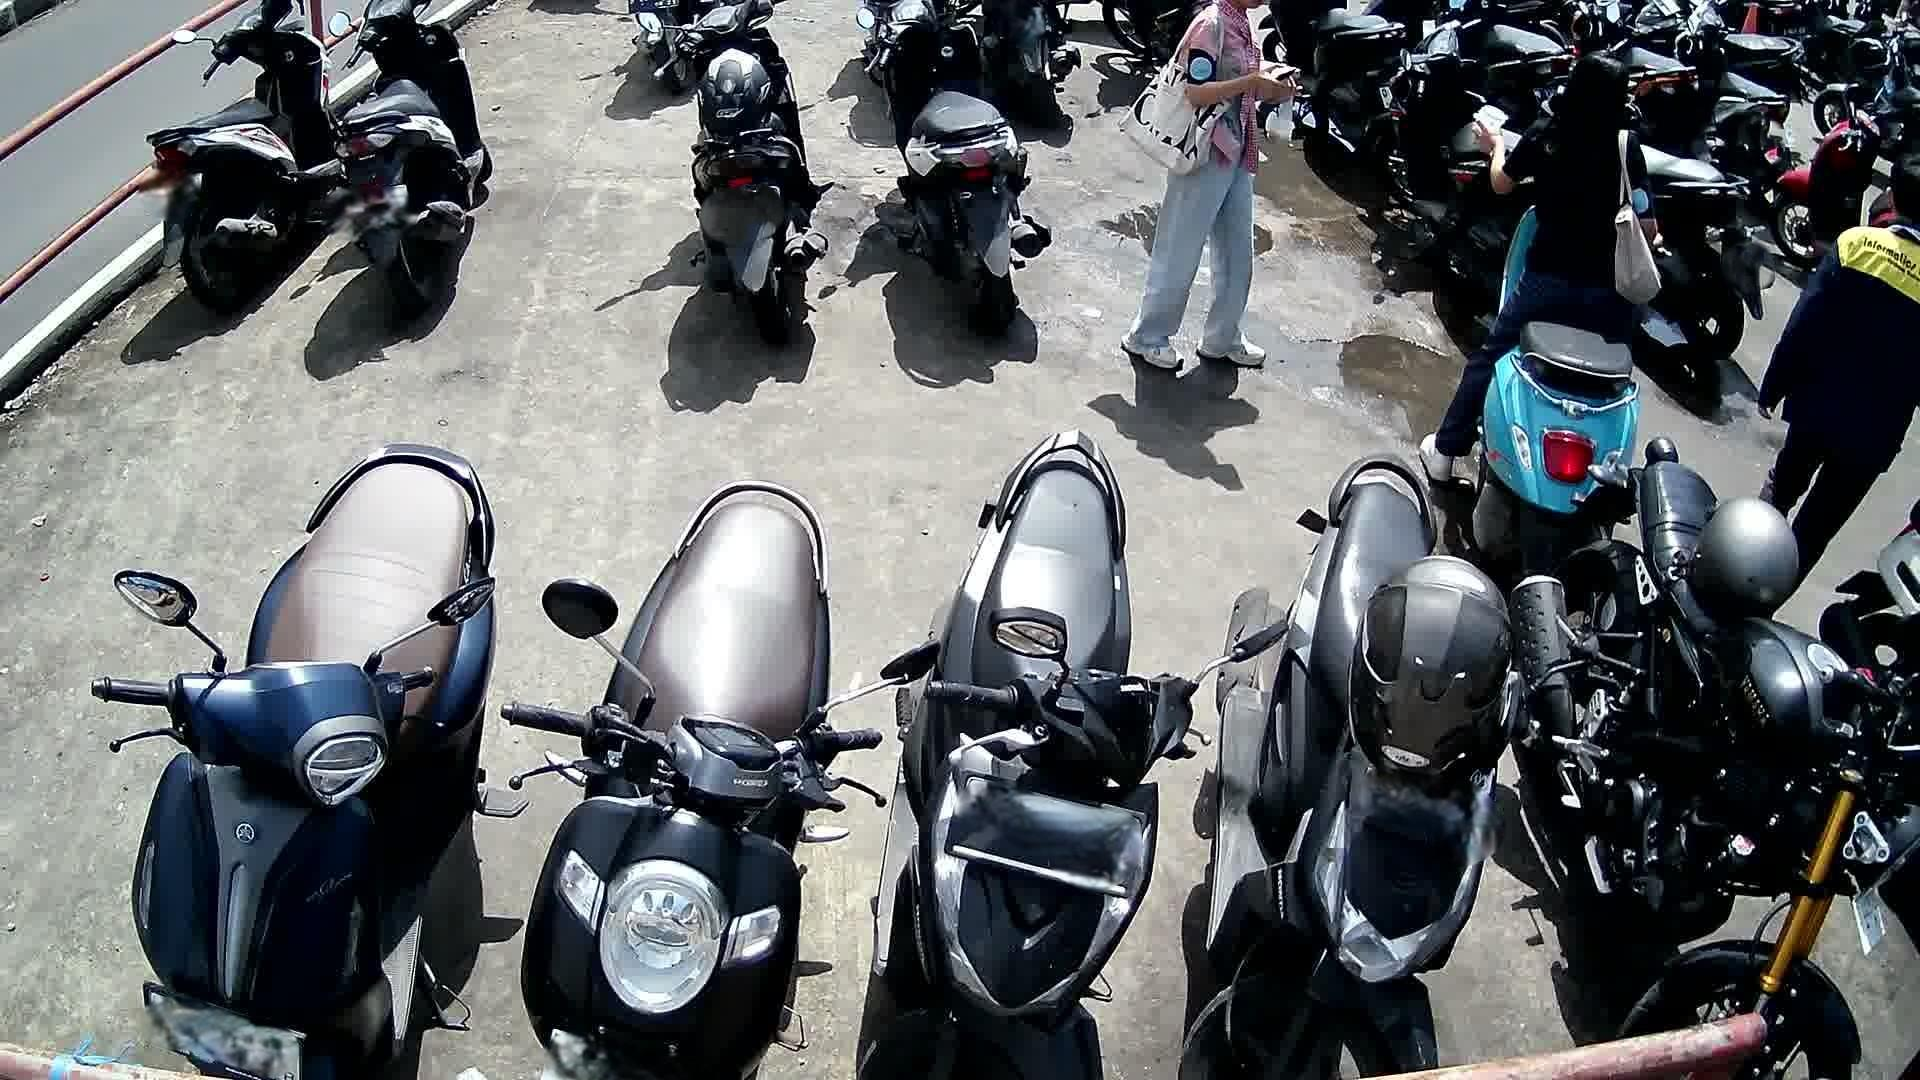motorcycle: (87, 439, 531, 1080), (864, 429, 1286, 1080), (1509, 436, 1920, 1079), (500, 480, 939, 1080), (1182, 452, 1534, 1080), (852, 0, 1056, 335), (637, 0, 835, 343), (1470, 199, 1648, 570), (145, 0, 342, 316), (324, 0, 495, 314), (1375, 0, 1507, 297), (1635, 142, 1767, 364), (1772, 98, 1894, 265)
